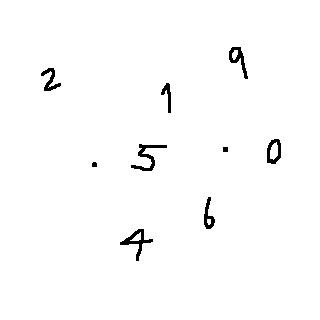.: (85, 154, 103, 177), (214, 144, 237, 160)
0: (262, 131, 288, 170)
2: (33, 62, 67, 100)
4: (113, 227, 158, 266)
5: (128, 139, 171, 184)
6: (195, 194, 224, 236), (153, 79, 180, 121)
9: (222, 39, 255, 82)
